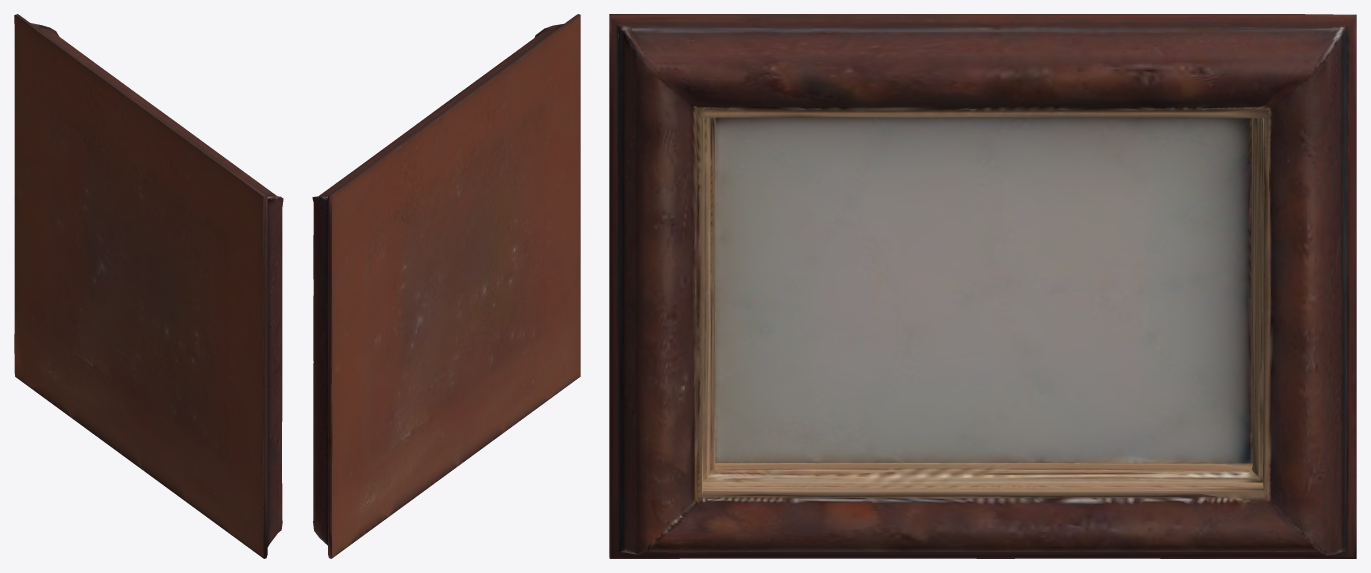
File: tripo_convert_0039bf03-8590-485b-b110-9d53d59ed1c7.fbx
3 views of the same model, side by side, from view 1: azimuth 30°, elevation 25°; view 2: azimuth 150°, elevation 25°; view 3: azimuth 270°, elevation 25° (orthographic). The views are drawn at different scales.
Parts seen in each view (by area): view 1: tripo_node_0039bf03; view 2: tripo_node_0039bf03; view 3: tripo_node_0039bf03.
Boxes of the visible parts, x1,y1,x2,y2 form: tripo_node_0039bf03: (14,14,283,558); tripo_node_0039bf03: (312,14,580,558); tripo_node_0039bf03: (609,14,1356,558).
Bounding box in the file's own units: 0.0766 × 0.8025 × 1.
1 material, 1 textured.
